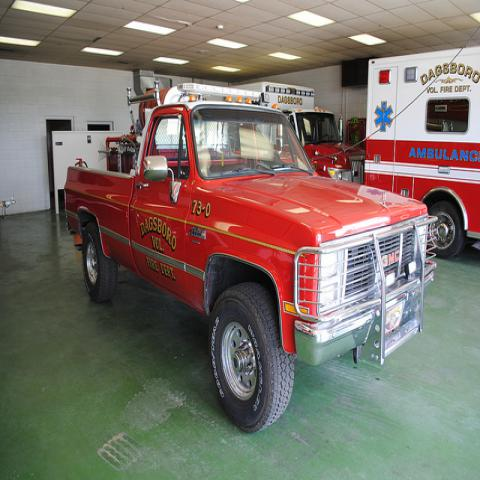truck: (65, 94, 442, 437), (364, 45, 479, 256), (257, 80, 366, 186)
